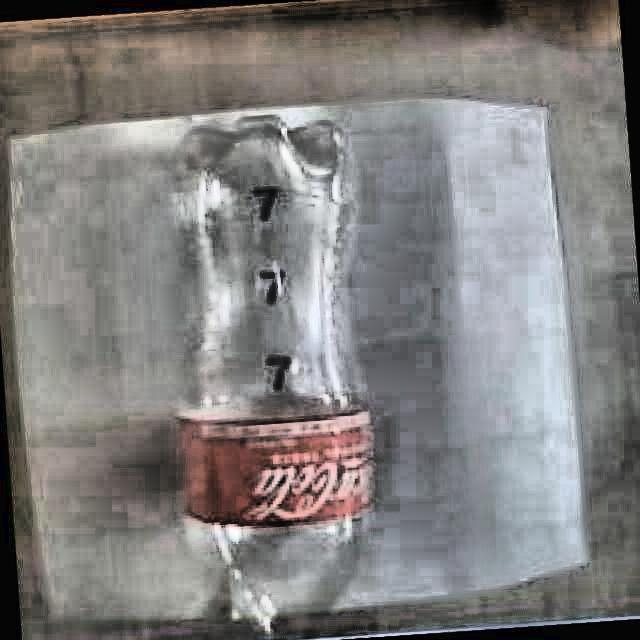plastic bottle: (179, 113, 374, 639)
